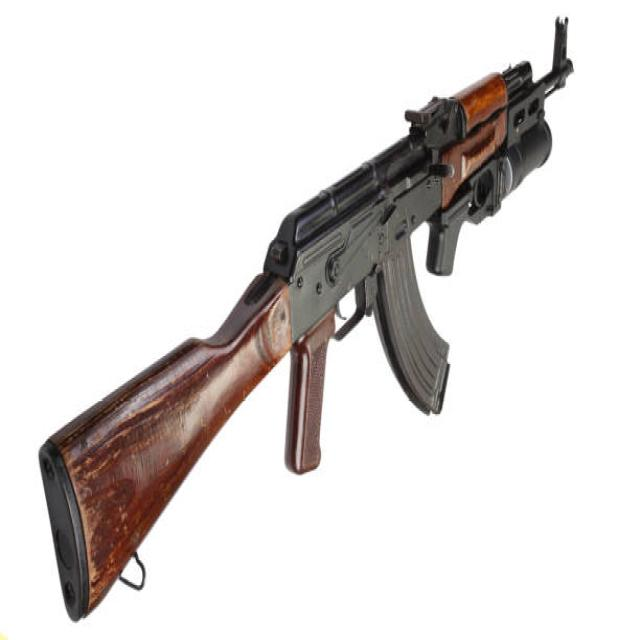rifle: (38, 18, 587, 635)
